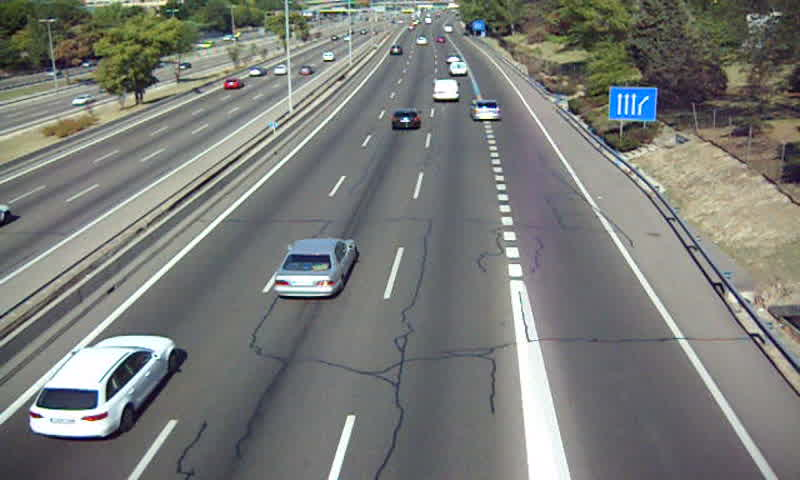car: (29, 335, 177, 440), (272, 236, 358, 301), (390, 108, 422, 132), (472, 98, 503, 122)
van: (432, 78, 460, 103), (451, 60, 468, 77)
